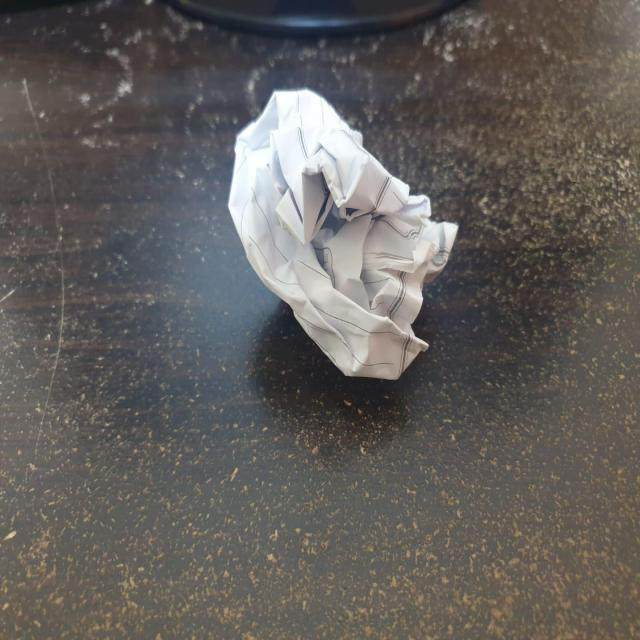cardboard paper: (228, 89, 455, 377)
